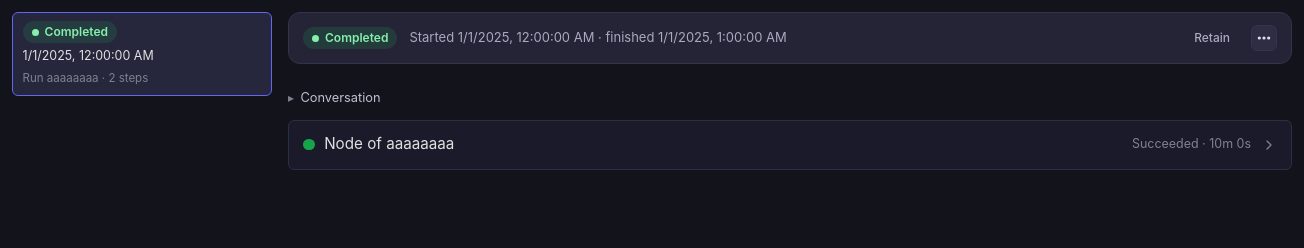
Test: RunsPanel run actions › delete asks first and dismissing the confirmation sends nothing
Expected: the text "Node of aaaaaaaa" is shown, [324,133,454,156]
Step 1. Click the button named "Run actions" → click(1264, 38), box [1251,25,1277,51]
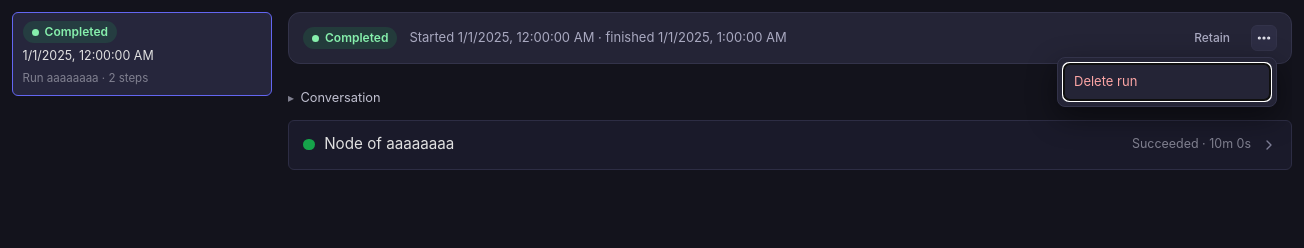
Step 2. Click the menu item "Delete run" → click(1167, 82), box [1064,64,1270,100]
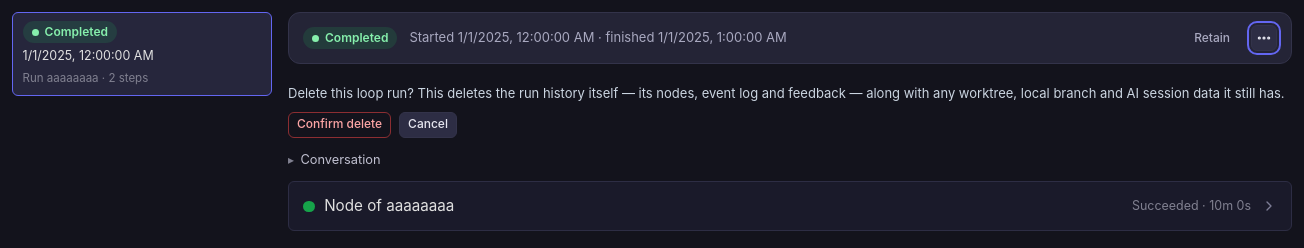
Step 3. Click the button "Cancel" → click(428, 124), box [399,112,457,138]
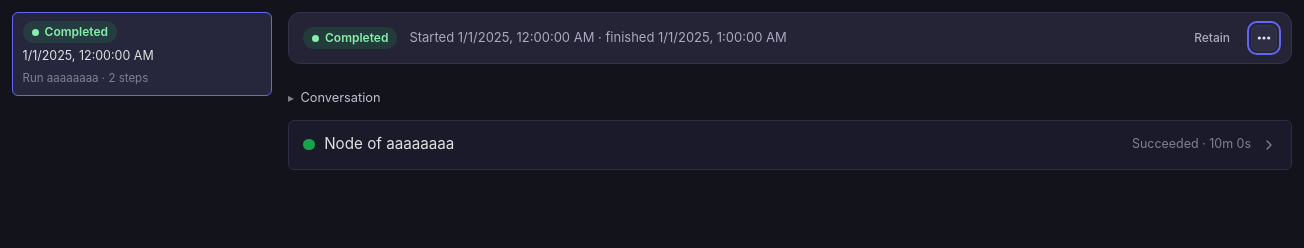
Expected: the button "Completed 1/1/2025, 12:00:00 AM Run aaaaaaaa · 2 steps" is shown, [12,12,272,96]
Now the text "Delete" is gone
